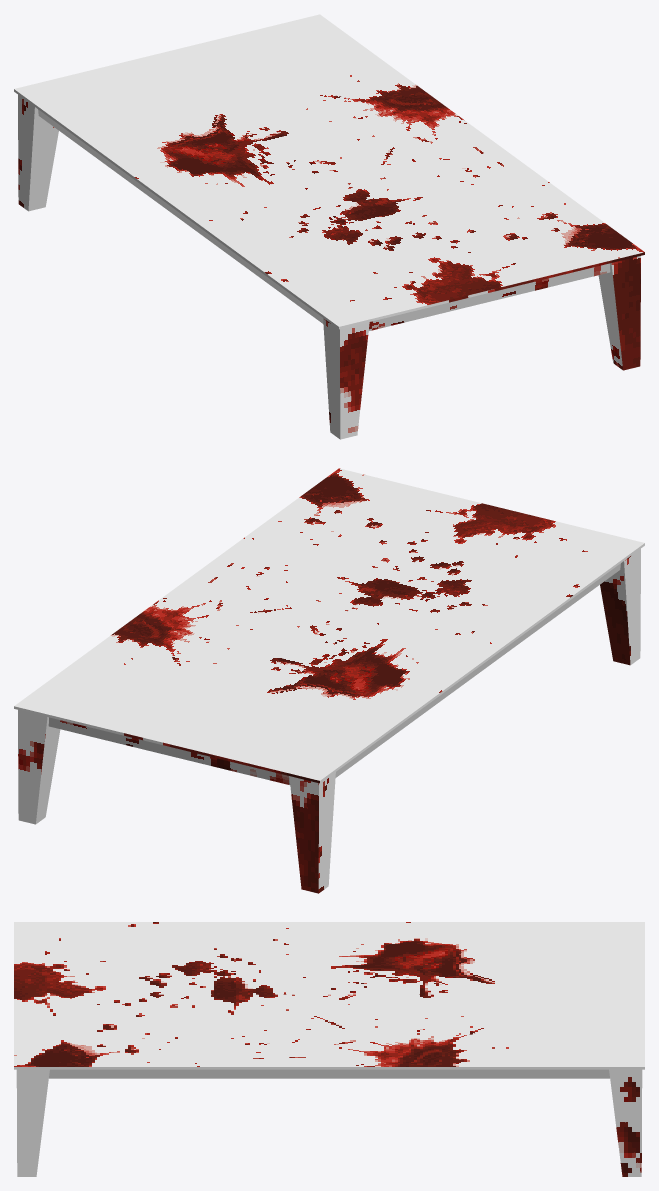
Rendered from table.glb.
3 renders of one model, top to bottom at view 1: azimuth 30°, elevation 25°; view 2: azimuth 150°, elevation 25°; view 3: azimuth 270°, elevation 25°, orthographic. The views are drawn at different scales.
Visible parts, largest first — view 1: table; view 2: table; view 3: table.
Boxes of the visible parts, left/top/right/bottom form: table: left=14, top=14, right=644, bottom=439; table: left=14, top=468, right=644, bottom=893; table: left=14, top=922, right=644, bottom=1176.
Size of the model in its own units: 2.18 by 0.7801 by 4.01.
Materials: 1 (1 with a texture image).
